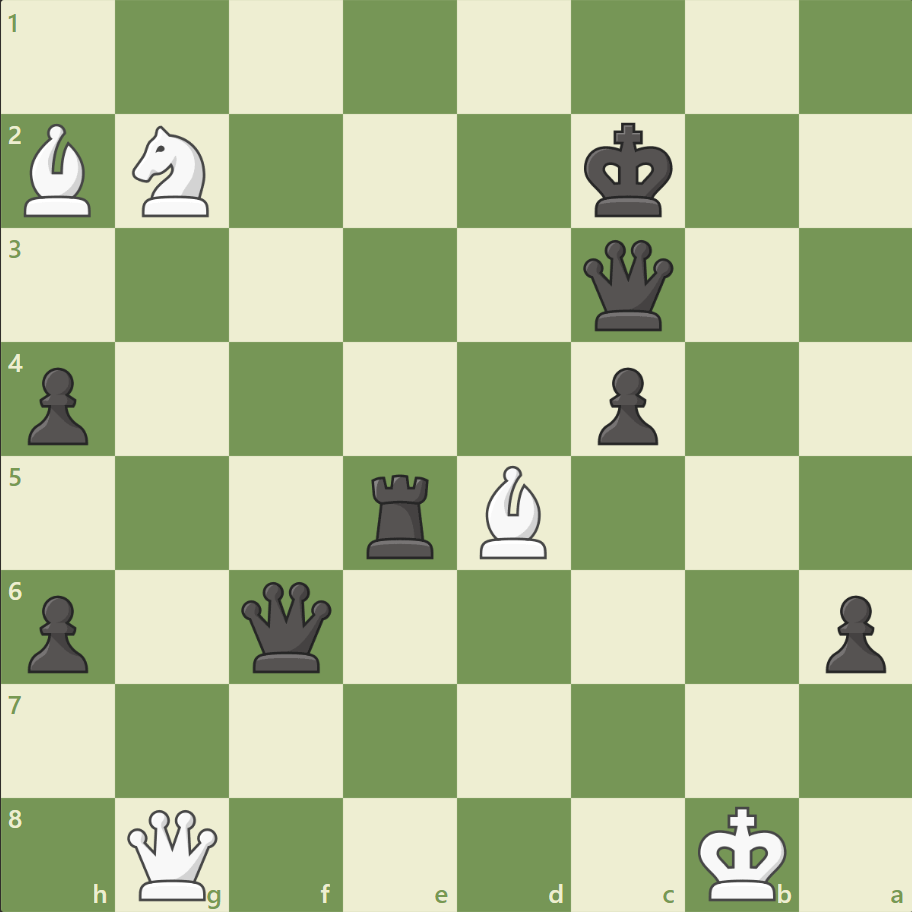B: (471, 460, 555, 563), (17, 120, 101, 222)
K: (692, 798, 792, 906)
N: (124, 121, 222, 223)
Q: (124, 804, 223, 903)
k: (579, 117, 679, 225)
p: (20, 586, 95, 677), (20, 359, 95, 450), (815, 586, 889, 677), (588, 359, 662, 450)
q: (237, 576, 336, 676), (578, 236, 677, 335)
r: (360, 466, 442, 563)
